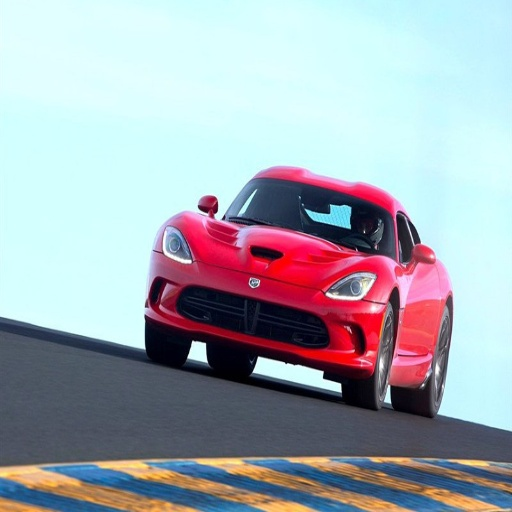back_bumper: (149, 258, 300, 345)
front_bumper: (284, 298, 383, 371)
front_glass: (247, 180, 387, 254)
front_left_door: (397, 229, 433, 331)
trunk: (166, 216, 301, 295)
